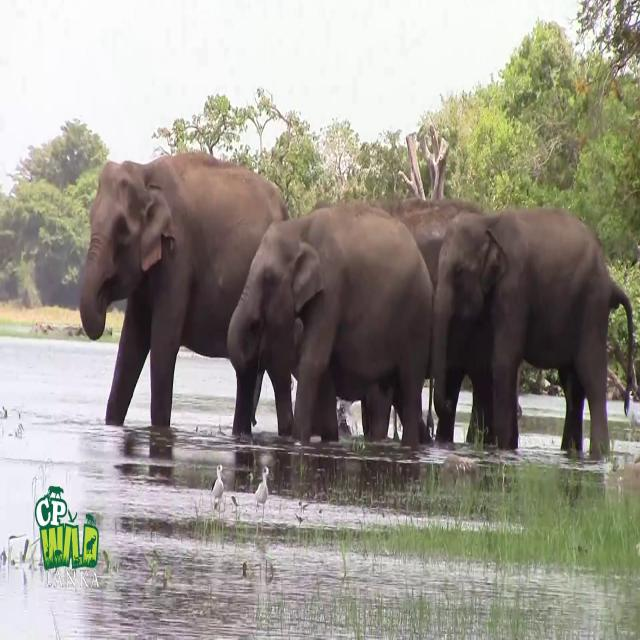Elephant: (78, 150, 292, 430), (226, 200, 435, 447), (432, 206, 635, 460)
